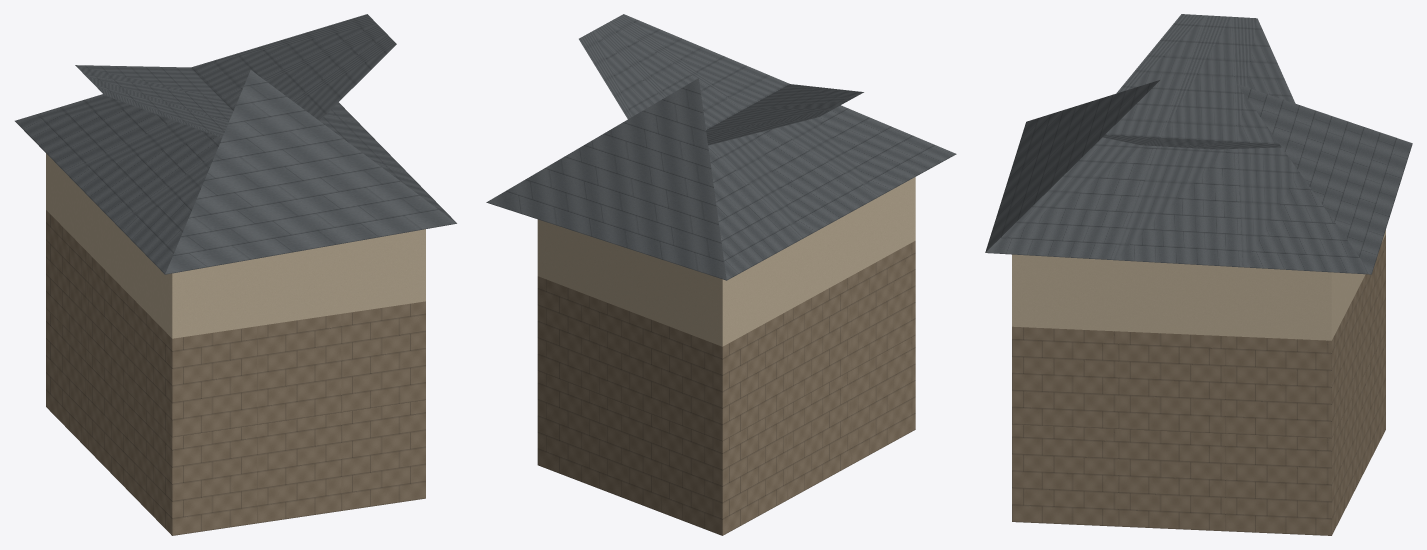
Rendered from bld_c2_17_462.gltf.
The picture shows the model from 3 angles, left to right: view 1: azimuth 30°, elevation 25°; view 2: azimuth 150°, elevation 25°; view 3: azimuth 270°, elevation 25°; orthographic projection. The views are drawn at different scales.
Visible parts, largest first — view 1: bld_c2_17_462; view 2: bld_c2_17_462; view 3: bld_c2_17_462.
Boxes of the visible parts, bbox=[...] form: bld_c2_17_462: bbox=[15, 14, 456, 535]; bld_c2_17_462: bbox=[486, 14, 956, 535]; bld_c2_17_462: bbox=[985, 14, 1412, 535].
Size of the model in its own units: 7.56 by 9.08 by 8.93.
Materials: 3 (3 with a texture image).
